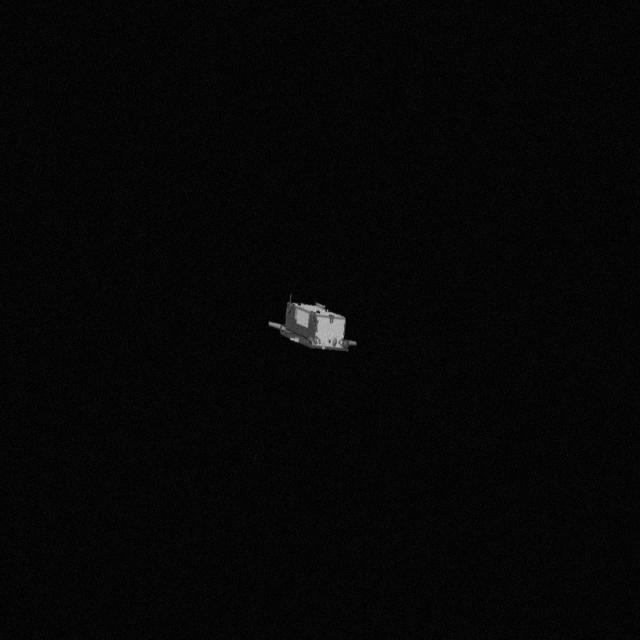satellite: (264, 294, 356, 356)
